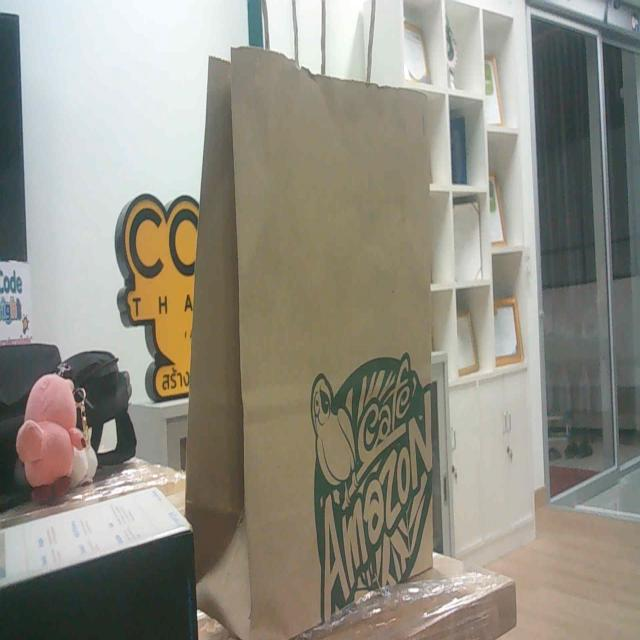bag: (180, 6, 467, 640)
